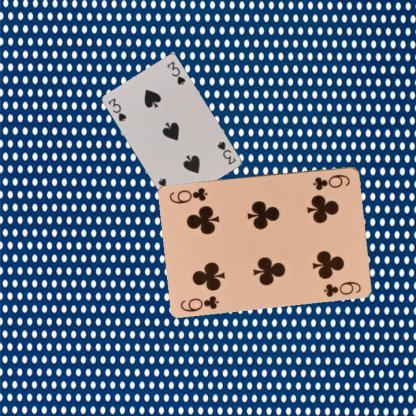3s: (214, 138, 237, 166), (106, 95, 128, 123)
6c: (178, 293, 221, 313), (310, 172, 352, 192)
